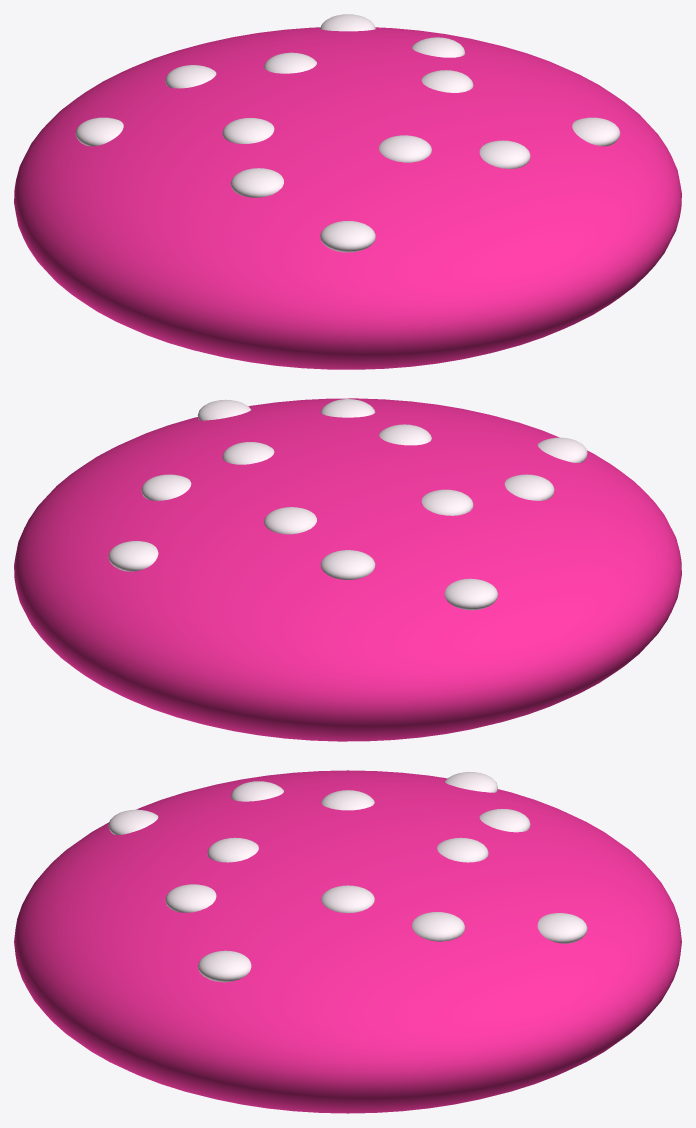
The model's file is jamur-pantul.glb.
3 renders of one model, top to bottom at view 1: azimuth 30°, elevation 25°; view 2: azimuth 150°, elevation 25°; view 3: azimuth 270°, elevation 25°, orthographic.
Parts seen in each view (by area): view 1: Sphere, Sphere.009, Sphere.008, Sphere.011, Sphere.010, Sphere.007, Sphere.006, Sphere.012, Sphere.001, Sphere.005, Sphere.004, Sphere.002 (+1 smaller); view 2: Sphere, Sphere.006, Sphere.005, Sphere.003, Sphere.004, Sphere.007, Sphere.002, Sphere.008, Sphere.001, Sphere.009, Sphere.010, Sphere.011 (+1 smaller); view 3: Sphere, Sphere.012, Sphere.002, Sphere.003, Sphere.001, Sphere.011, Sphere.004, Sphere.010, Sphere.005, Sphere.009, Sphere.007, Sphere.008 (+1 smaller).
Boxes of the visible parts, bbox=[...] form: Sphere: bbox=[14, 27, 681, 369]; Sphere.009: bbox=[320, 221, 375, 252]; Sphere.008: bbox=[230, 168, 283, 197]; Sphere.011: bbox=[479, 140, 530, 168]; Sphere.010: bbox=[379, 135, 431, 162]; Sphere.007: bbox=[222, 117, 274, 143]; Sphere.006: bbox=[75, 117, 123, 146]; Sphere.012: bbox=[572, 117, 620, 146]; Sphere.001: bbox=[421, 70, 473, 92]; Sphere.005: bbox=[165, 65, 216, 88]; Sphere.004: bbox=[264, 52, 316, 73]; Sphere.002: bbox=[412, 37, 465, 57]; Sphere: bbox=[14, 398, 681, 741]; Sphere.006: bbox=[444, 578, 498, 610]; Sphere.005: bbox=[320, 550, 375, 579]; Sphere.003: bbox=[108, 541, 158, 571]; Sphere.004: bbox=[264, 507, 316, 534]; Sphere.007: bbox=[421, 489, 473, 515]; Sphere.002: bbox=[141, 474, 191, 500]; Sphere.008: bbox=[504, 474, 554, 500]; Sphere.001: bbox=[222, 442, 274, 464]; Sphere.009: bbox=[537, 437, 587, 462]; Sphere.010: bbox=[379, 424, 431, 445]; Sphere.011: bbox=[320, 399, 375, 417]; Sphere: bbox=[14, 770, 681, 1113]; Sphere.012: bbox=[198, 950, 251, 982]; Sphere.002: bbox=[412, 912, 465, 941]; Sphere.003: bbox=[537, 913, 587, 943]; Sphere.001: bbox=[321, 885, 374, 913]; Sphere.011: bbox=[165, 884, 216, 912]; Sphere.004: bbox=[437, 837, 488, 862]; Sphere.010: bbox=[207, 837, 258, 862]; Sphere.005: bbox=[479, 808, 530, 832]; Sphere.009: bbox=[108, 809, 158, 834]; Sphere.007: bbox=[321, 790, 374, 810]; Sphere.008: bbox=[231, 781, 283, 801].
Size of the model in its own units: 7.11 by 2.46 by 7.11.
